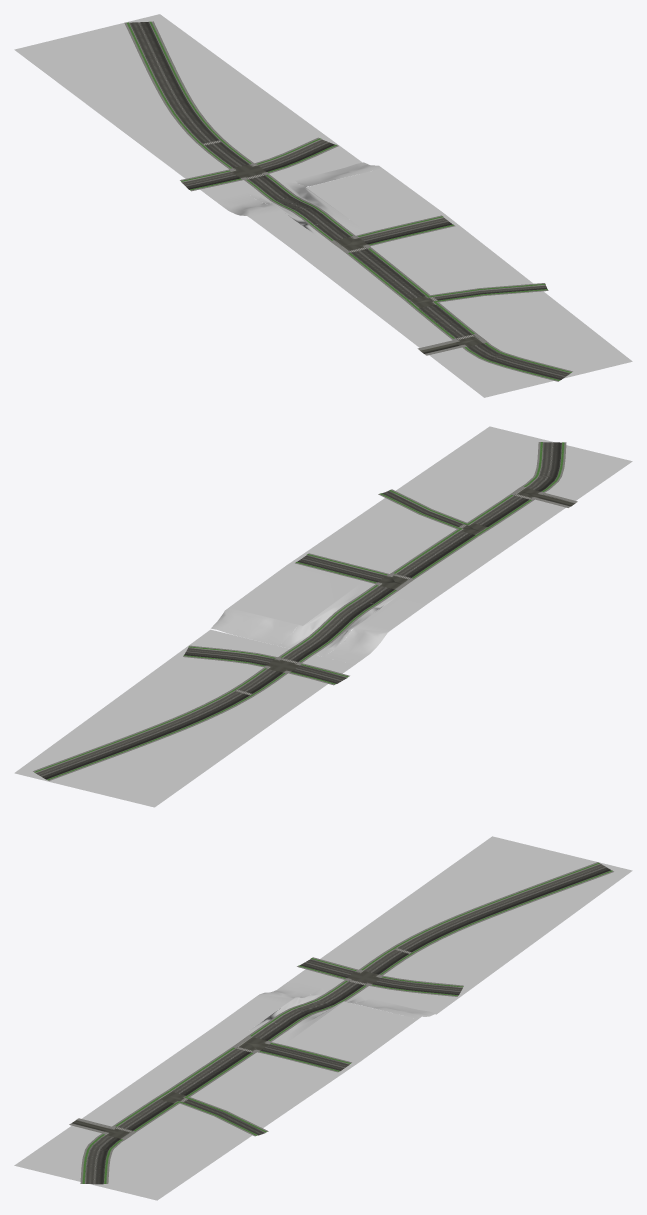
3 views of the same model, one above another, from view 1: azimuth 30°, elevation 25°; view 2: azimuth 150°, elevation 25°; view 3: azimuth 330°, elevation 25° (orthographic). The views are drawn at different scales.
Visible parts, largest first — view 1: default, Default Road 009; view 2: default, Default Road 009; view 3: default, Default Road 009.
Part boxes in pixels (x1,y1,x2,y2): default: (14,14,632,397); Default Road 009: (124,21,572,381); default: (14,426,632,807); Default Road 009: (33,442,577,780); default: (14,836,632,1200); Default Road 009: (69,862,613,1184).
Bounding box in the file's own units: 19486 × 1095 × 100511.
